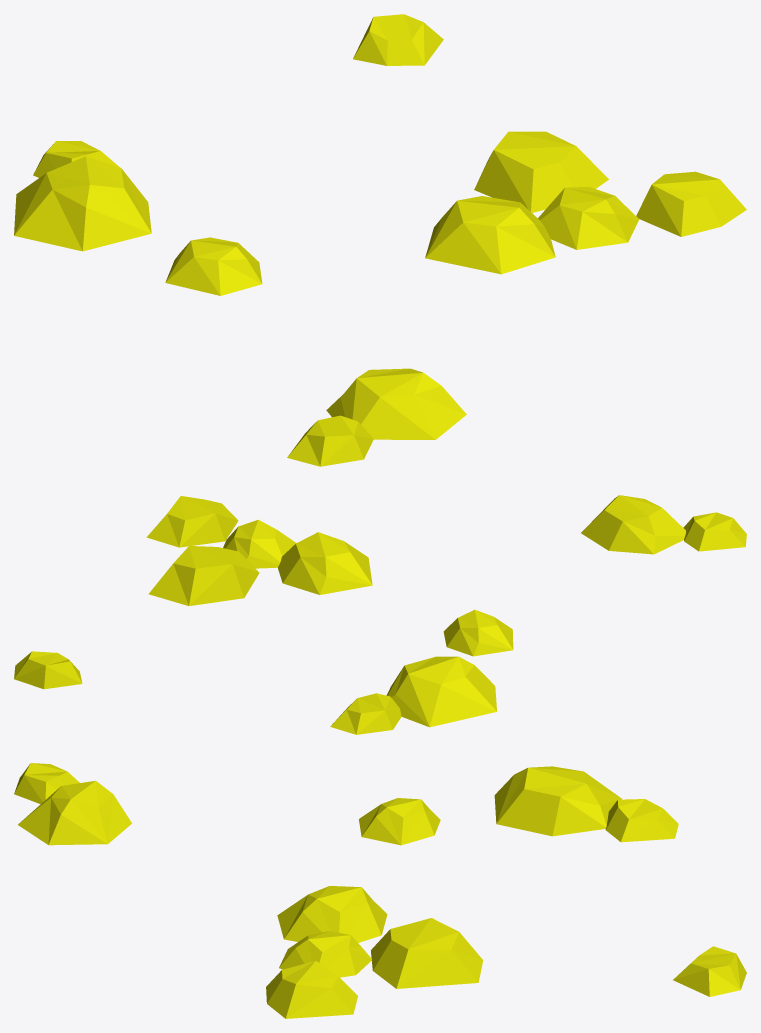
The model's file is SM_Generic_Small_Rocks_01.glb.
3 views of the same model, one above another, from view 1: azimuth 30°, elevation 25°; view 2: azimuth 150°, elevation 25°; view 3: azimuth 270°, elevation 25° (orthographic). The views are drawn at different scales.
Visible parts, largest first — view 1: SM_Generic_Small_Rocks_01; view 2: SM_Generic_Small_Rocks_01; view 3: SM_Generic_Small_Rocks_01.
Boxes of the visible parts, left/top/right/bottom form: SM_Generic_Small_Rocks_01: left=14, top=14, right=746, bottom=466; SM_Generic_Small_Rocks_01: left=14, top=495, right=746, bottom=734; SM_Generic_Small_Rocks_01: left=14, top=763, right=746, bottom=1018.
Bounding box in the file's own units: 1.31 × 0.095 × 1.63.
Materials: 1 (1 with a texture image).
